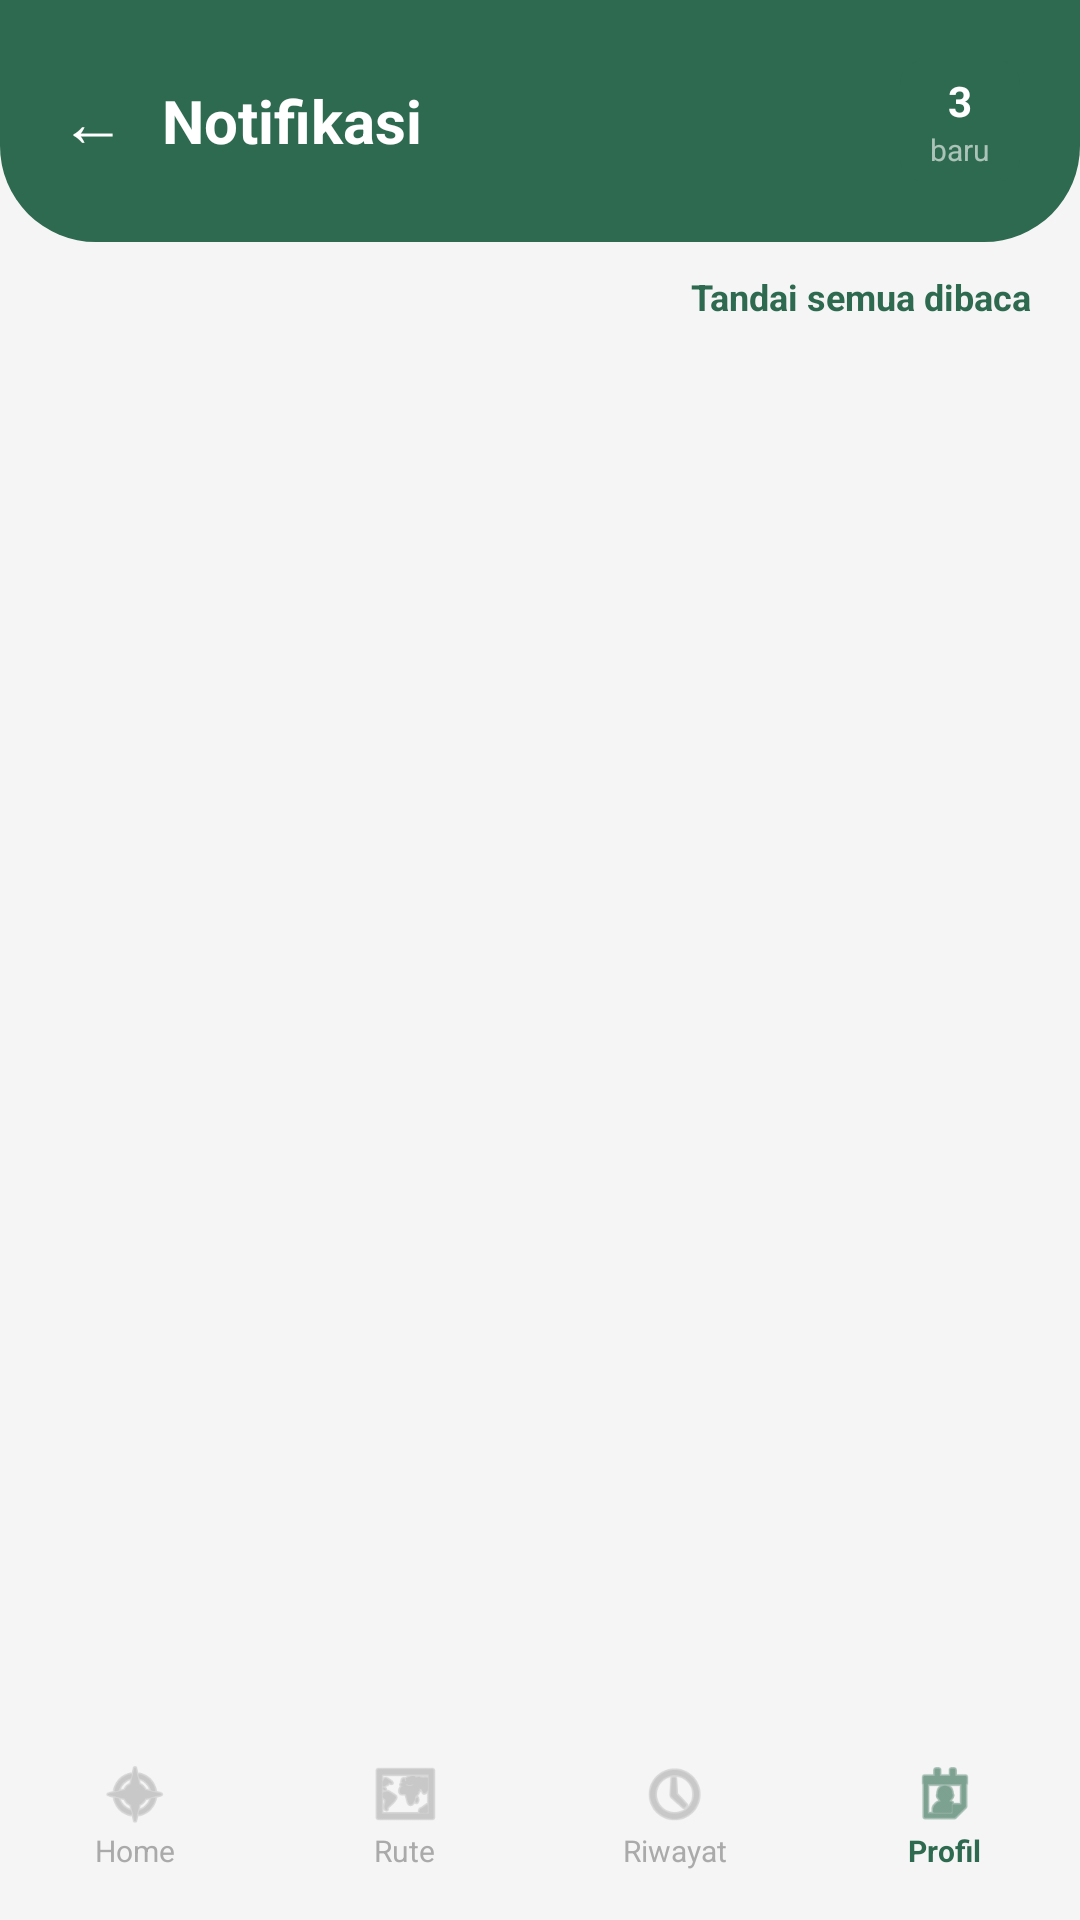

Point at icon controls on the screen. Image size 1080w x 1920h, points as point (x, y).
calendar: point (945, 1793)
compass: point (135, 1794)
mapmode: point (405, 1794)
